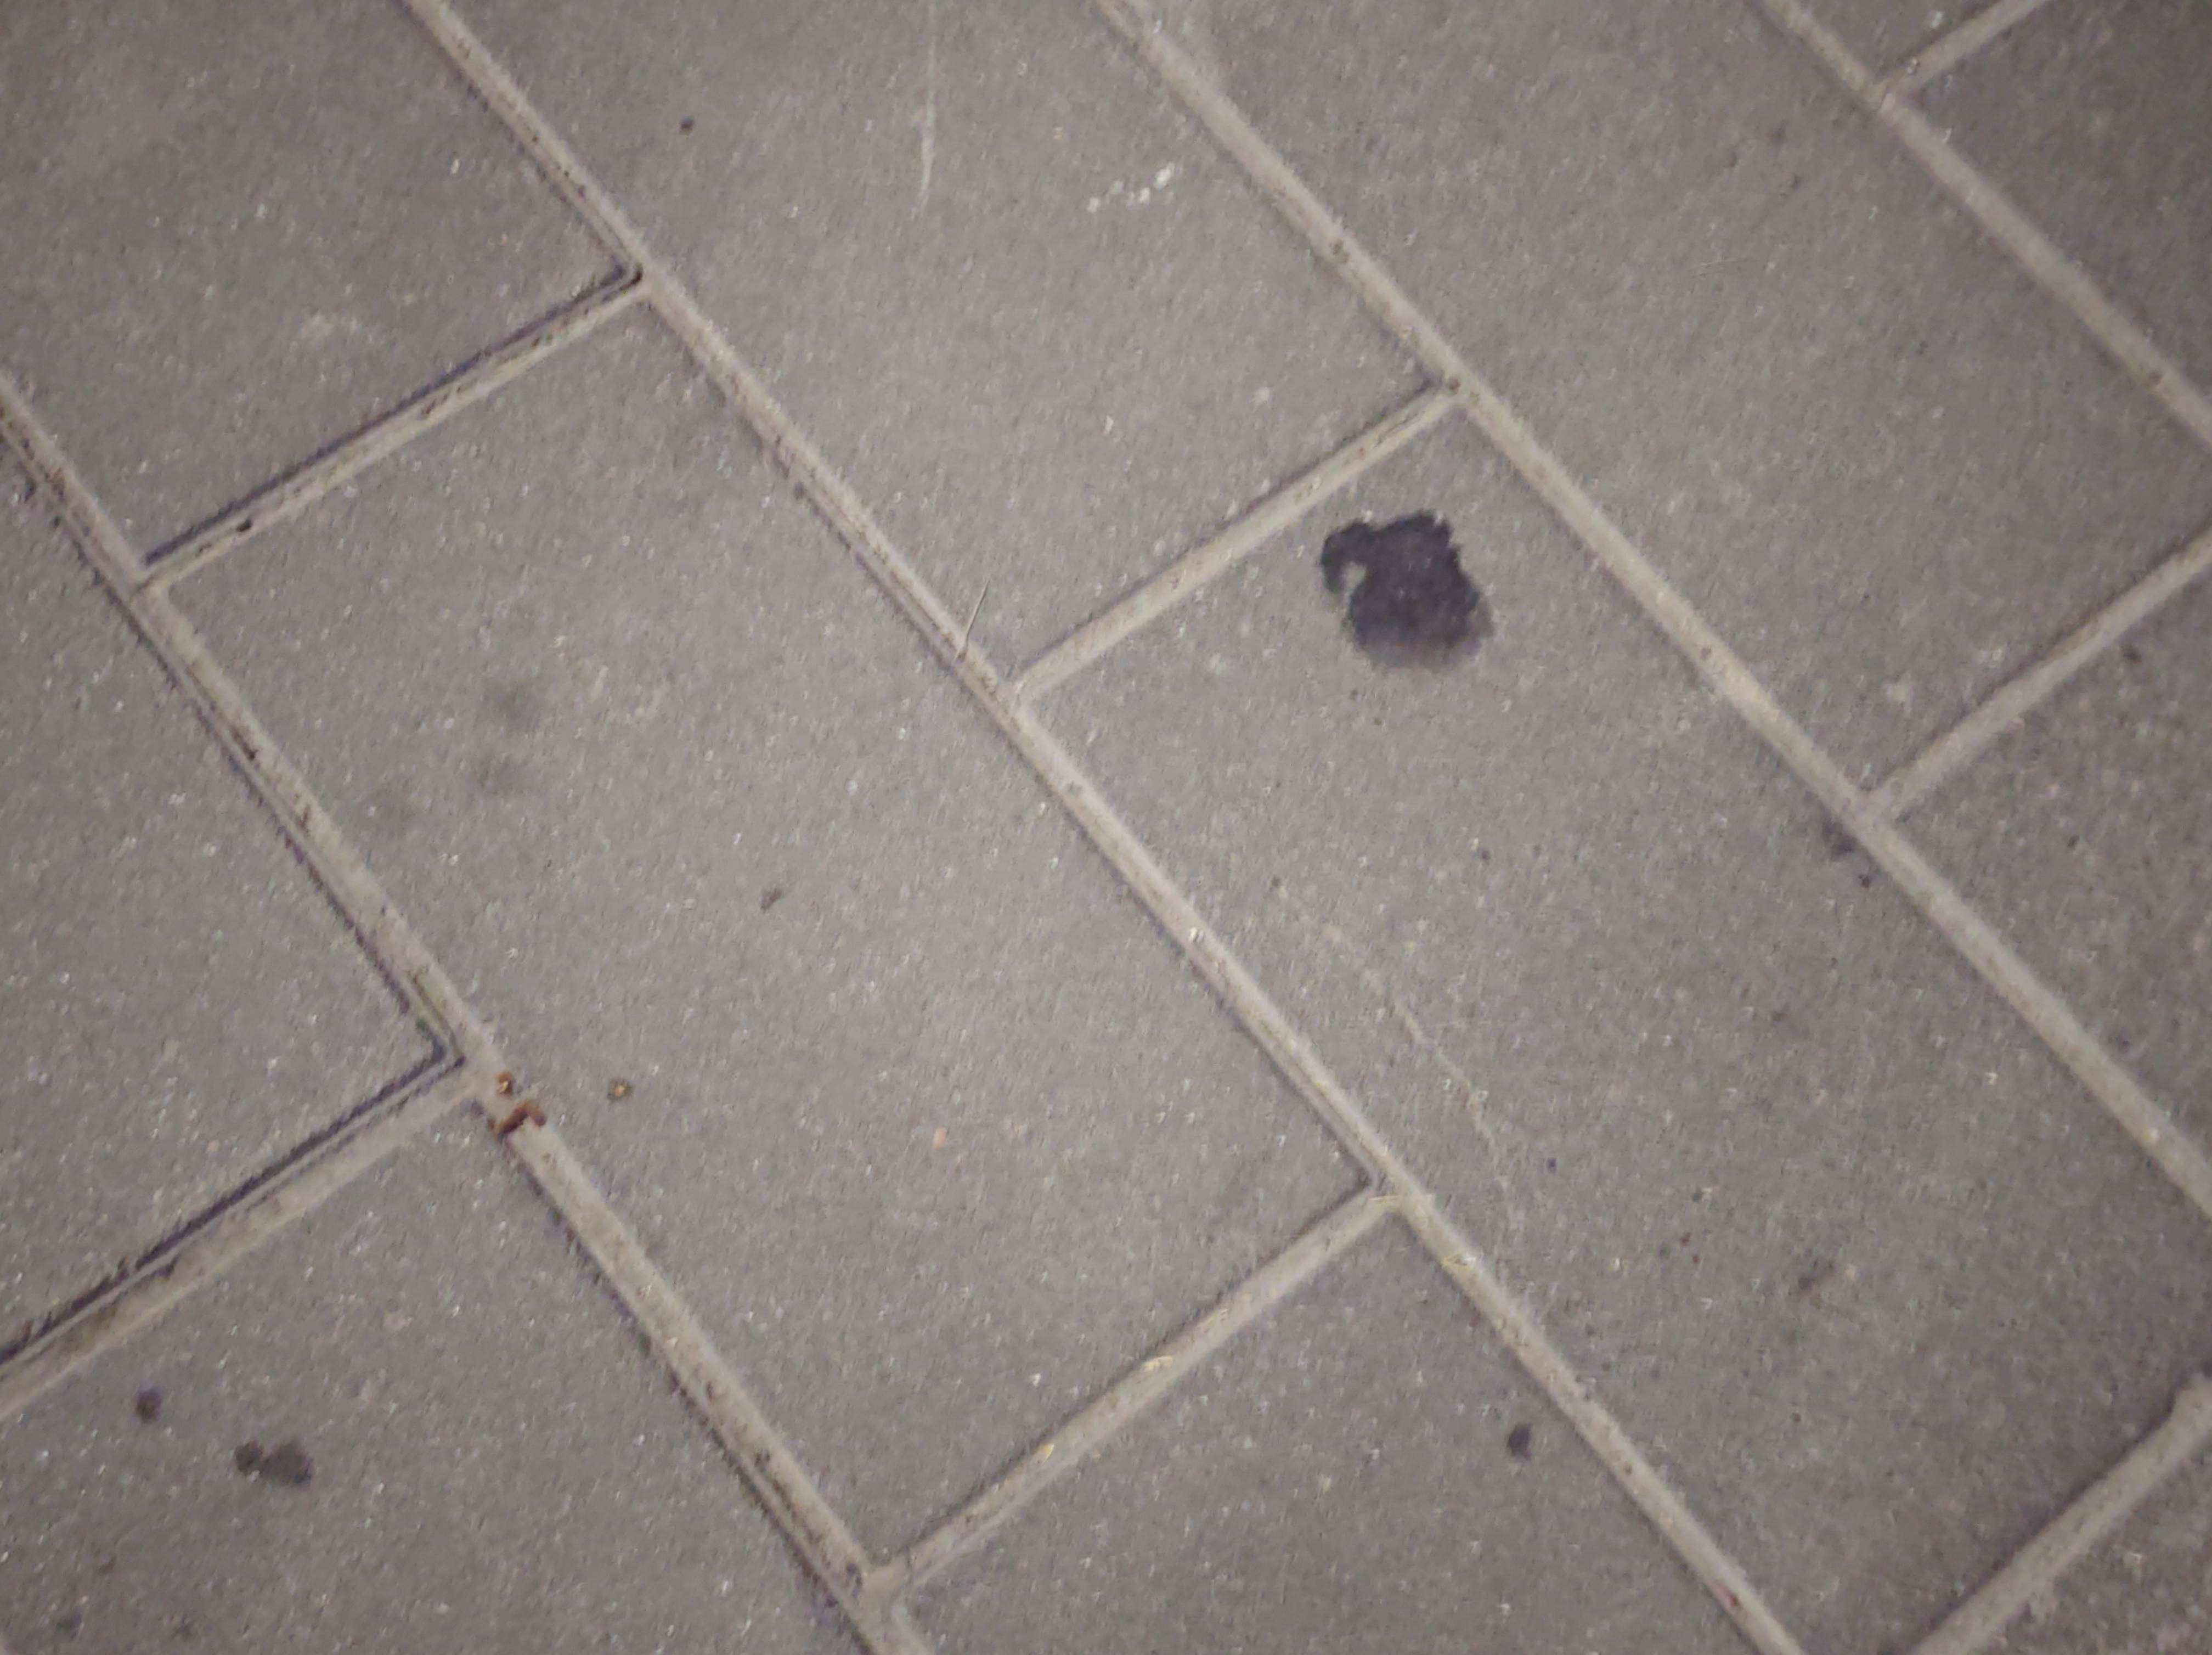grey spot: (1322, 513, 1494, 675)
